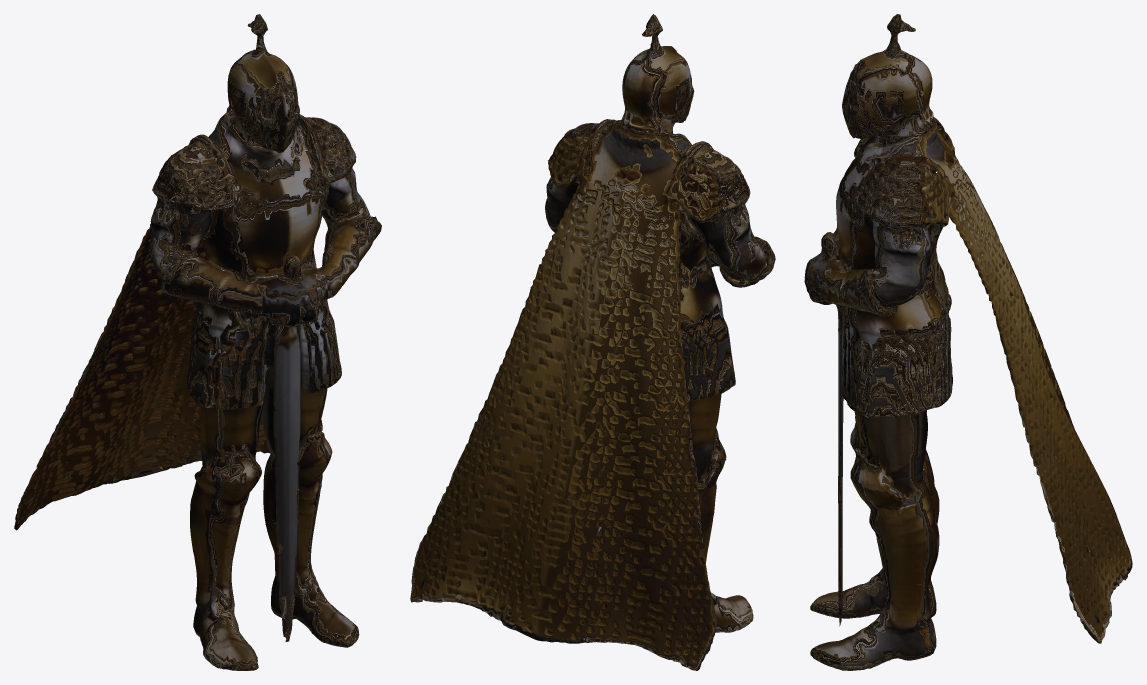
The model's file is klasik_n_b.glb.
3 renders of one model, left to right at view 1: azimuth 30°, elevation 25°; view 2: azimuth 150°, elevation 25°; view 3: azimuth 270°, elevation 25°, orthographic.
Parts seen in each view (by area): view 1: at; view 2: at; view 3: at.
Boxes of the visible parts, box(x1,y1,x2,y2) form: at: box(14, 14, 381, 670); at: box(410, 14, 775, 670); at: box(804, 14, 1132, 670).
Bounding box in the file's own units: 0.1295 × 0.2534 × 0.1207.
1 material, 1 textured.
